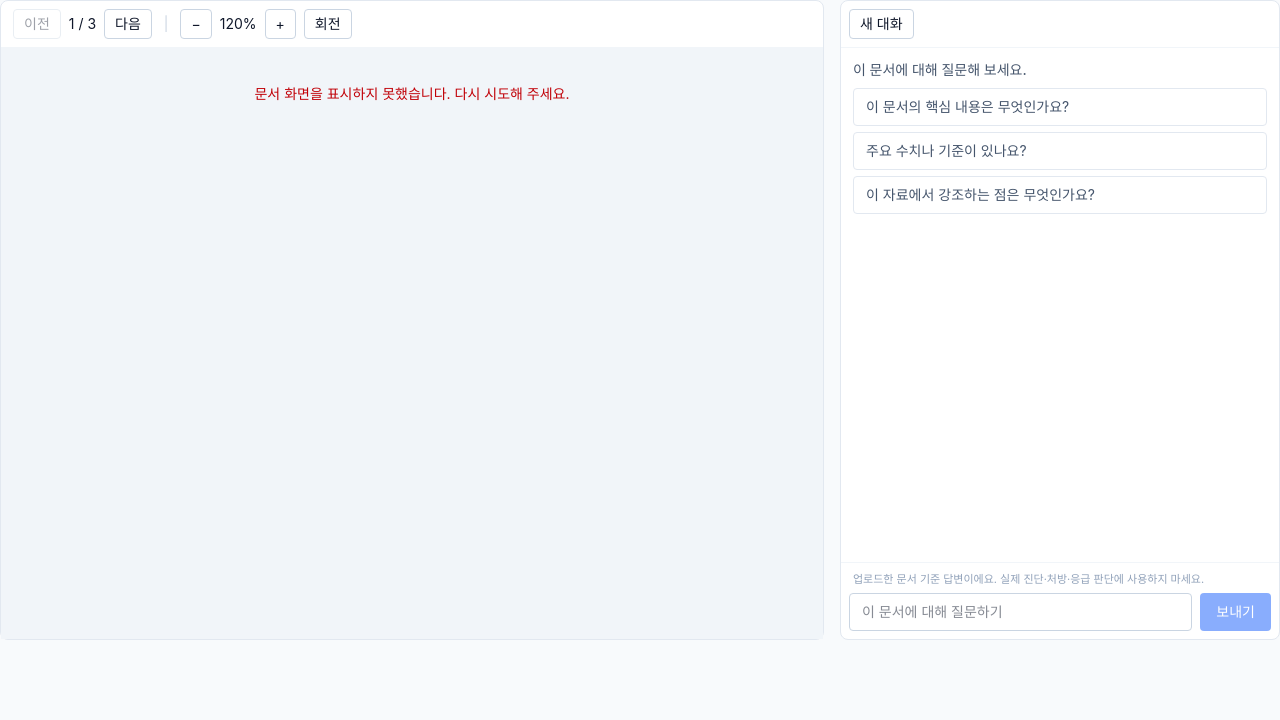
DocumentQa › terminal 이벤트 없이 연결이 끊기면 진행 상태에 멈추지 않는다
Expected: the text "이 문서에 대해 질문해 보세요." is shown, [853, 61, 1027, 78]
Type "심장은 무엇을 하나요?" into the field named "질문 입력". click: (1021, 612)
box: [849, 593, 1192, 631]
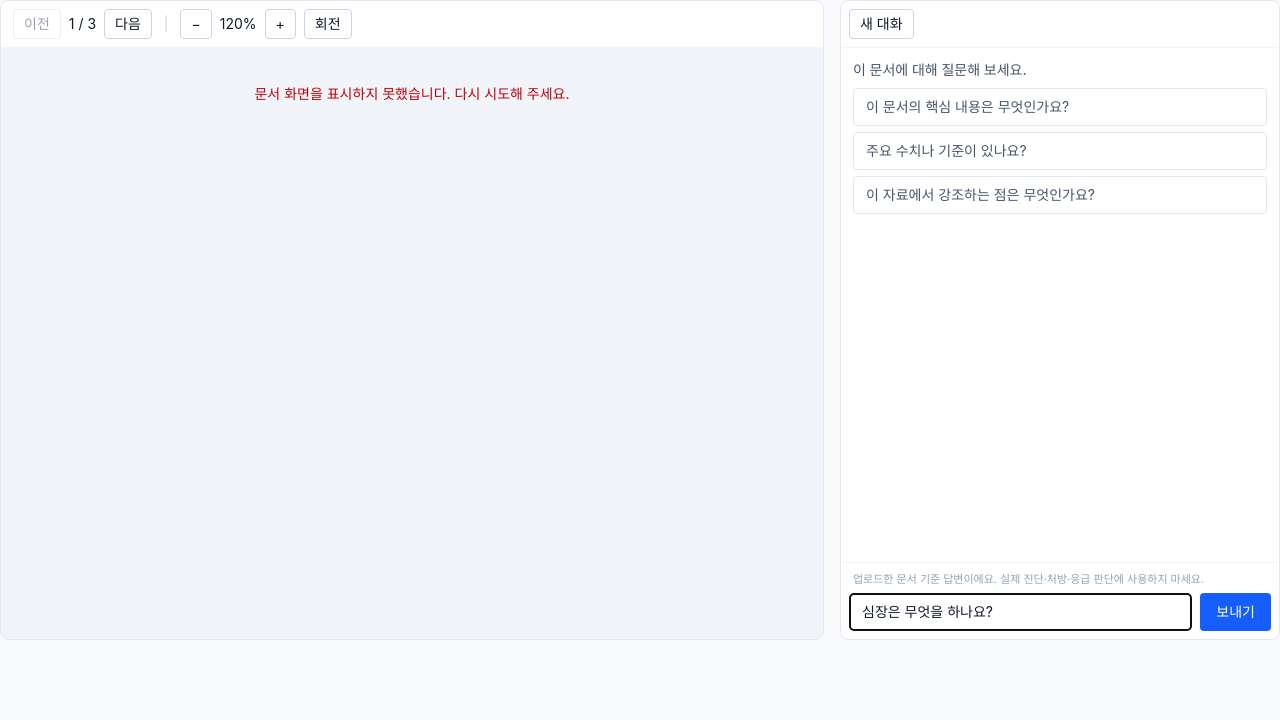
Click the button "보내기". click: (1236, 612)
box: [1200, 593, 1271, 631]
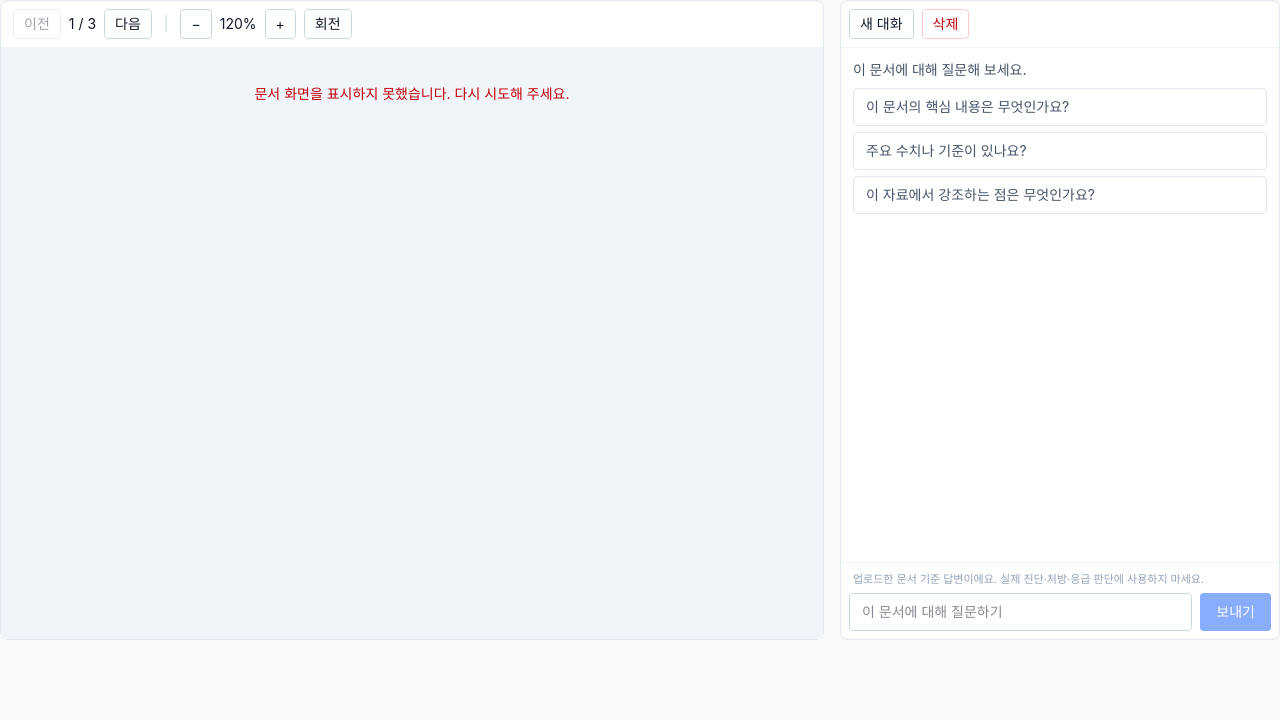
Type "다시" into the field named "질문 입력". click: (1021, 612)
box: [849, 593, 1192, 631]
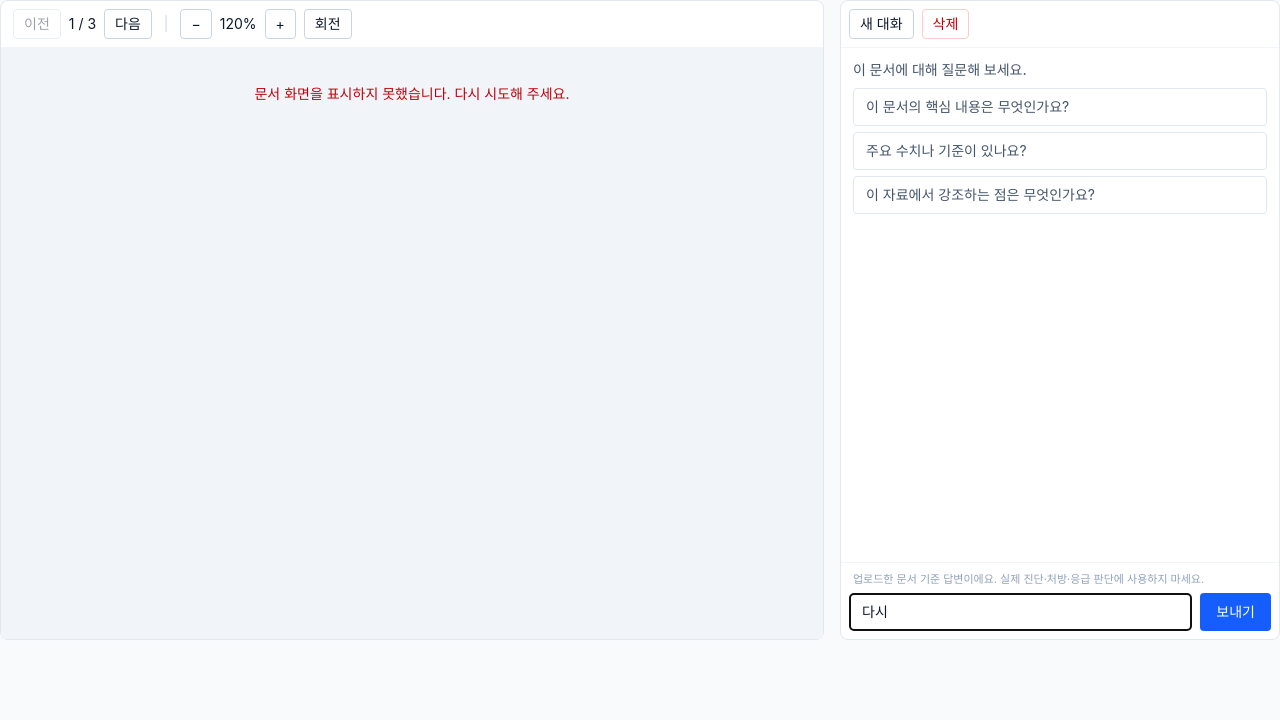
Now the button "보내기" is enabled, box [1200, 593, 1271, 631]
